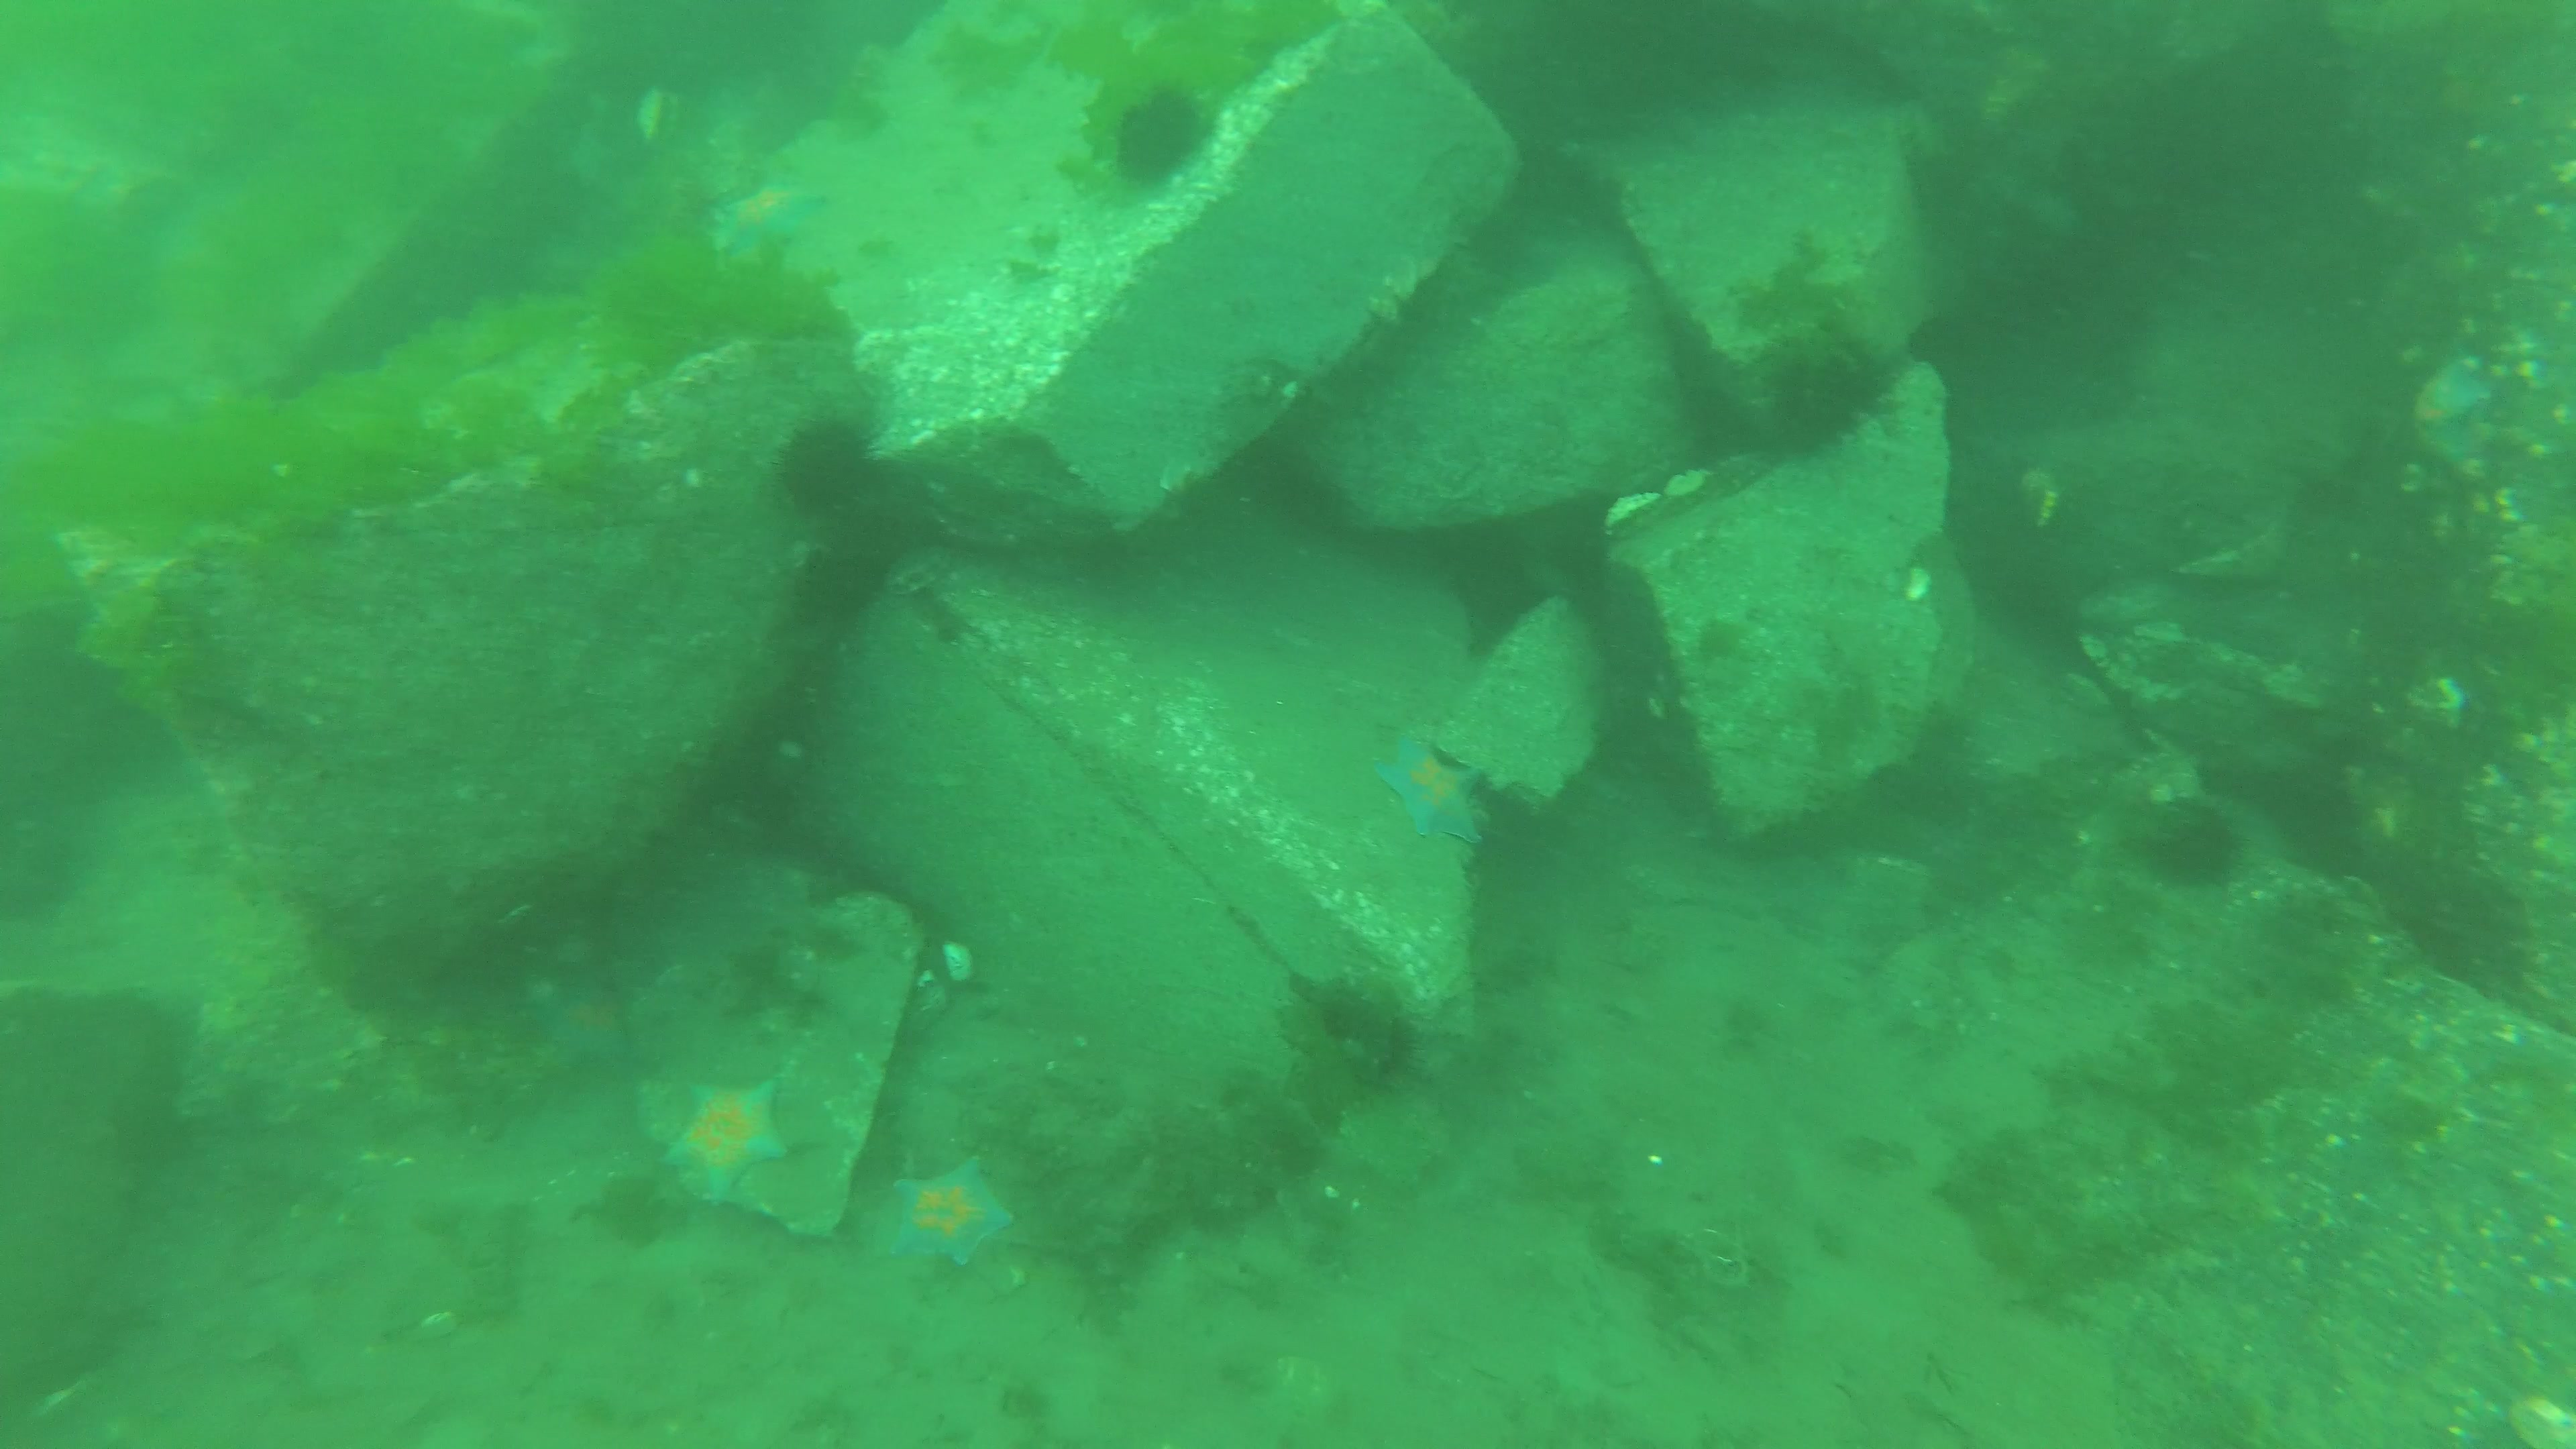echinus: (1773, 341, 1884, 453), (1316, 982, 1421, 1093), (775, 418, 883, 518), (1522, 494, 1614, 605), (1116, 90, 1205, 191), (2153, 801, 2245, 895)
starfish: (663, 1074, 793, 1205), (895, 1157, 1019, 1267), (1380, 734, 1490, 847), (2419, 366, 2493, 483), (725, 186, 833, 253), (541, 994, 623, 1072)
